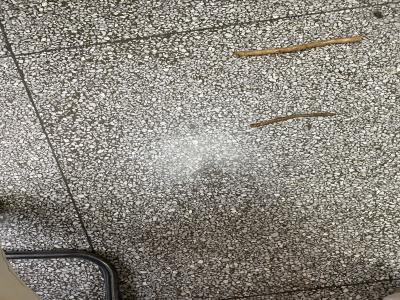Root: (234, 36, 362, 56)
